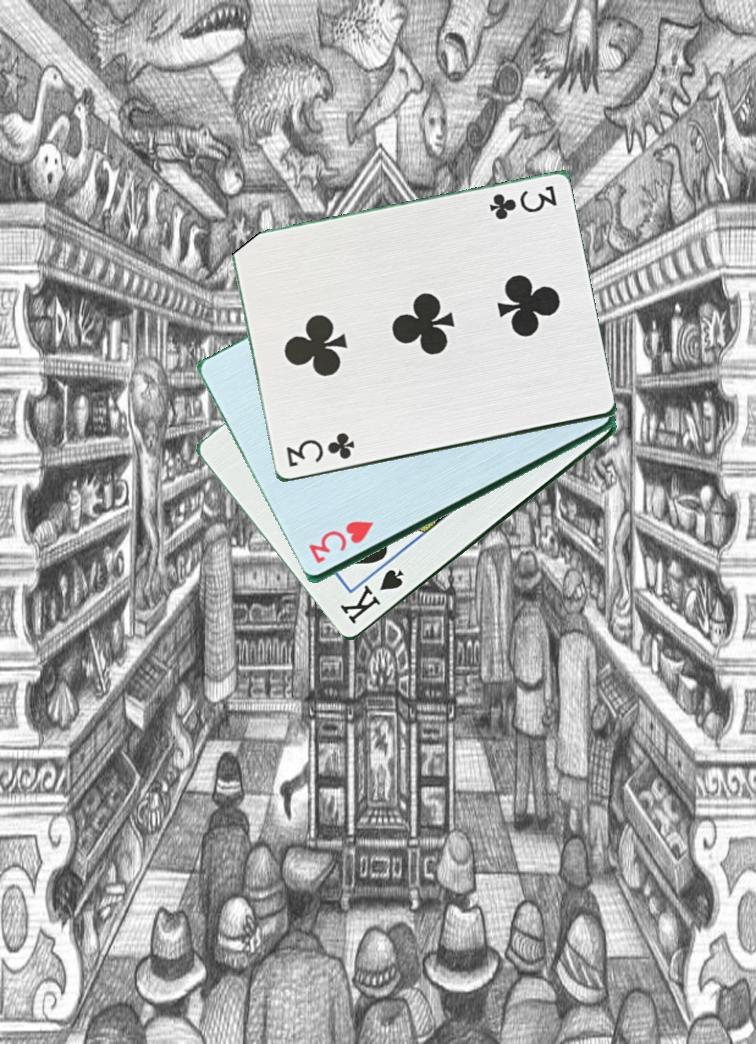3c: (479, 182, 560, 225), (282, 429, 362, 471)
3h: (305, 517, 376, 567)
ks: (336, 566, 407, 628)
